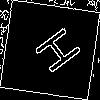H: (25, 25, 83, 81)
